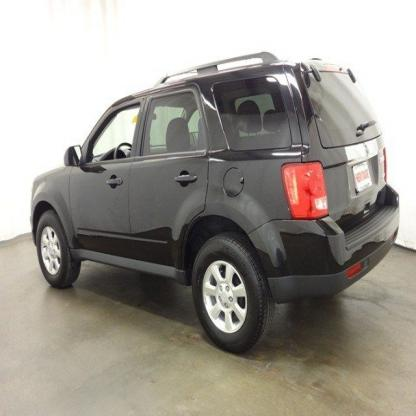Vehicle: (24, 48, 404, 356)
